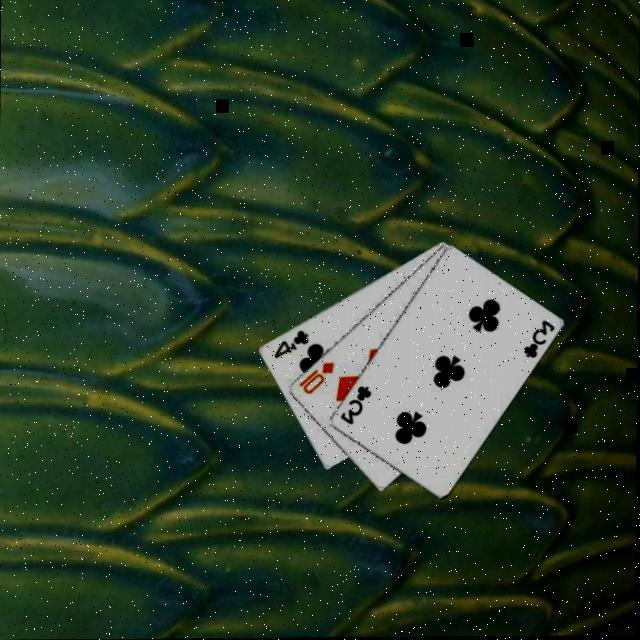10D: (294, 358, 335, 396)
3C: (518, 317, 556, 361), (336, 382, 372, 427)
4C: (269, 326, 309, 360)
